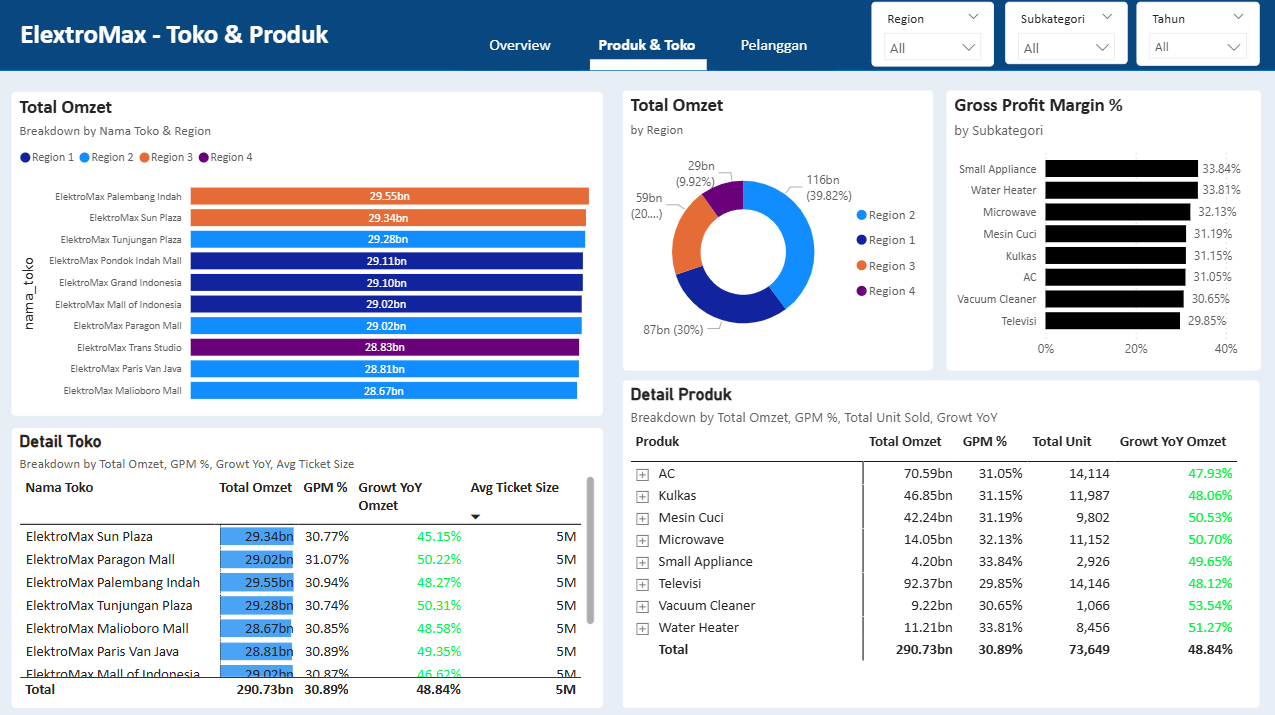

Layout of this report page (visuals, bound fields, positions):
{"tool":"powerbi","page":{"name":"Produk & Toko","canvas":[1280,720],"ordinal":1},"visuals":[{"type":"barChart","title":"Total Omzet","fields":{"Category":["DIM_TOKO.nama_toko"],"Y":["_MEASURE.Total Omzet"],"Series":["DIM_TOKO.region"]},"box":[12.9,94.3,591.4,324.3],"z":0},{"type":"donutChart","title":"Total Omzet","fields":{"Category":["DIM_TOKO.region"],"Y":["_MEASURE.Total Omzet"]},"box":[624.3,92.9,310,280],"z":1000},{"type":"tableEx","title":"Detail Toko","fields":{"Values":["DIM_TOKO.nama_toko","_MEASURE.Total Omzet","_MEASURE.GPM %","_MEASURE.Growt YoY","_MEASURE.Avg Ticket Size"]},"box":[12.9,430,591.4,280],"z":2000},{"type":"barChart","title":"Gross Profit Margin %","fields":{"Category":["DIM_PRODUK.subkategori"],"Y":["_MEASURE.GPM %"]},"box":[947.1,92.9,314.3,280],"z":3000},{"type":"shape","box":[0,0,1280,72.9],"z":4000},{"type":"textbox","box":[16.2,15,382.5,48.8],"z":5000},{"type":"group","id":"g1","title":"Group 1","box":[872.9,4.3,388.6,64.3],"z":6000},{"type":"slicer","fields":{"Values":["DIM_TOKO.region"]},"box":[872.9,4.3,122.7,64.5],"z":7000,"group":"g1"},{"type":"group","id":"g2","title":"Page Navigator","box":[462.9,24.3,374.3,48.6],"z":7000},{"type":"slicer","fields":{"Values":["DIM_PRODUK.subkategori"]},"box":[1006.5,4.3,122.7,62.7],"z":8000,"group":"g1"},{"type":"pivotTable","title":"Detail Produk","fields":{"Rows":["DIM_PRODUK.subkategori","DIM_PRODUK.nama_produk"],"Values":["_MEASURE.Total Omzet","_MEASURE.GPM %","_MEASURE.Total Unit","_MEASURE.Growt YoY Omzet"]},"box":[624.3,382.9,637.1,327.1],"z":8000},{"type":"slicer","fields":{"Values":["DIM_WAKTU.tahun"]},"box":[1138.1,4.3,122.9,64.3],"z":9000,"group":"g1"},{"type":"pageNavigator","box":[462.9,24.3,372.9,44.3],"z":10000,"group":"g2"},{"type":"pageNavigator","box":[464.3,61.4,372.9,11.4],"z":11000,"group":"g2"}]}

Visuals, with their boxes in screenshot pixels (x1, y1, x2, y2), scaled from the page's 1280x720 canvas onto the 1275x715 screenshot:
"Total Omzet" barChart: bbox=(13, 94, 602, 416)
"Total Omzet" donutChart: bbox=(622, 92, 931, 370)
"Detail Toko" tableEx: bbox=(13, 427, 602, 705)
"Gross Profit Margin %" barChart: bbox=(943, 92, 1256, 370)
shape: bbox=(0, 0, 1274, 72)
textbox: bbox=(16, 15, 397, 63)
"Group 1" group: bbox=(869, 4, 1257, 68)
slicer - DIM_TOKO.region: bbox=(869, 4, 992, 68)
"Page Navigator" group: bbox=(461, 24, 834, 72)
slicer - DIM_PRODUK.subkategori: bbox=(1003, 4, 1125, 67)
"Detail Produk" pivotTable: bbox=(622, 380, 1256, 705)
slicer - DIM_WAKTU.tahun: bbox=(1134, 4, 1256, 68)
pageNavigator: bbox=(461, 24, 833, 68)
pageNavigator: bbox=(462, 61, 834, 72)
